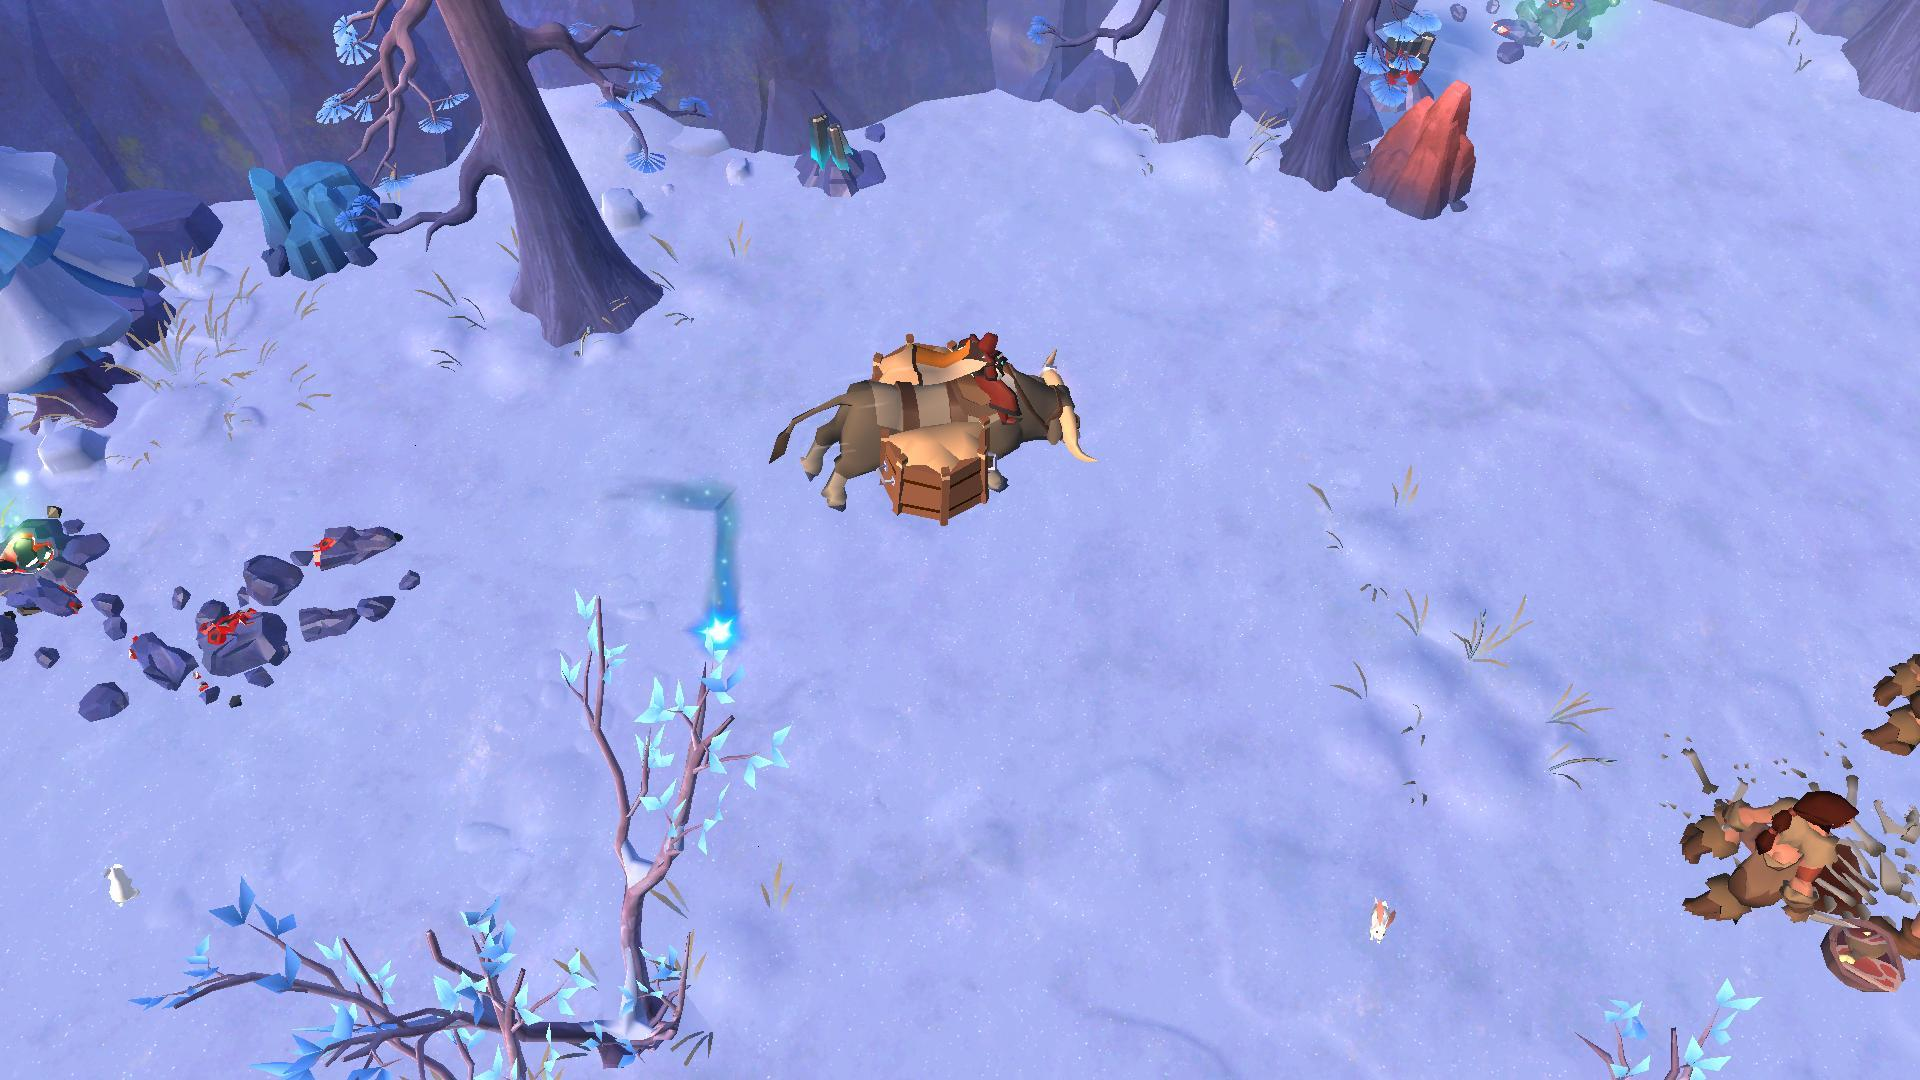enemy_factionKeeper: (1676, 777, 1847, 942)
ore_t4: (800, 107, 858, 175)
ore_t5: (1364, 18, 1437, 91)
rock_t4: (240, 161, 396, 282)
rock_t5: (1350, 69, 1484, 222)
